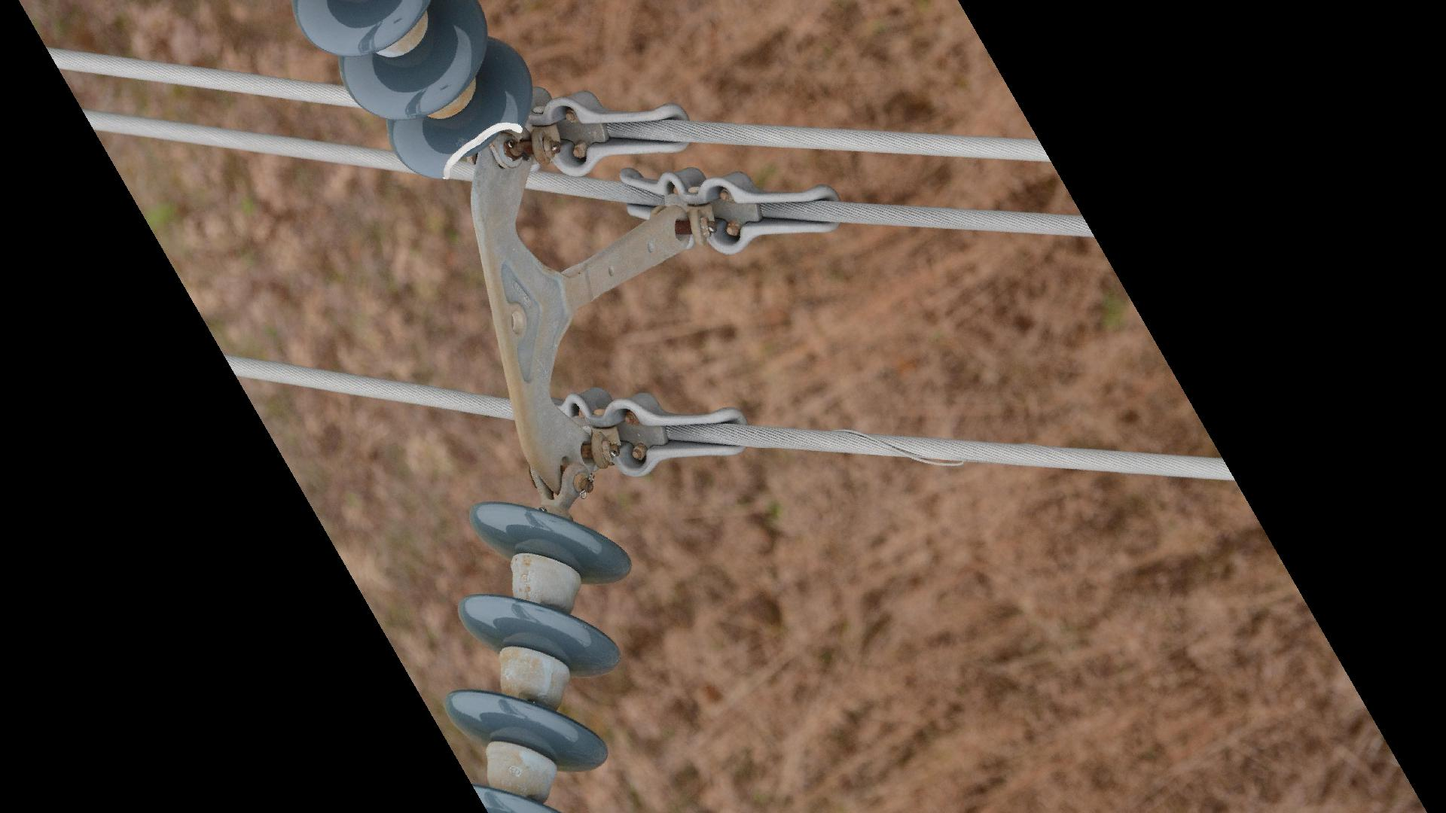insulator: (438, 495, 642, 813), (292, 1, 538, 193)
insulator_breakage: (437, 111, 534, 184)
